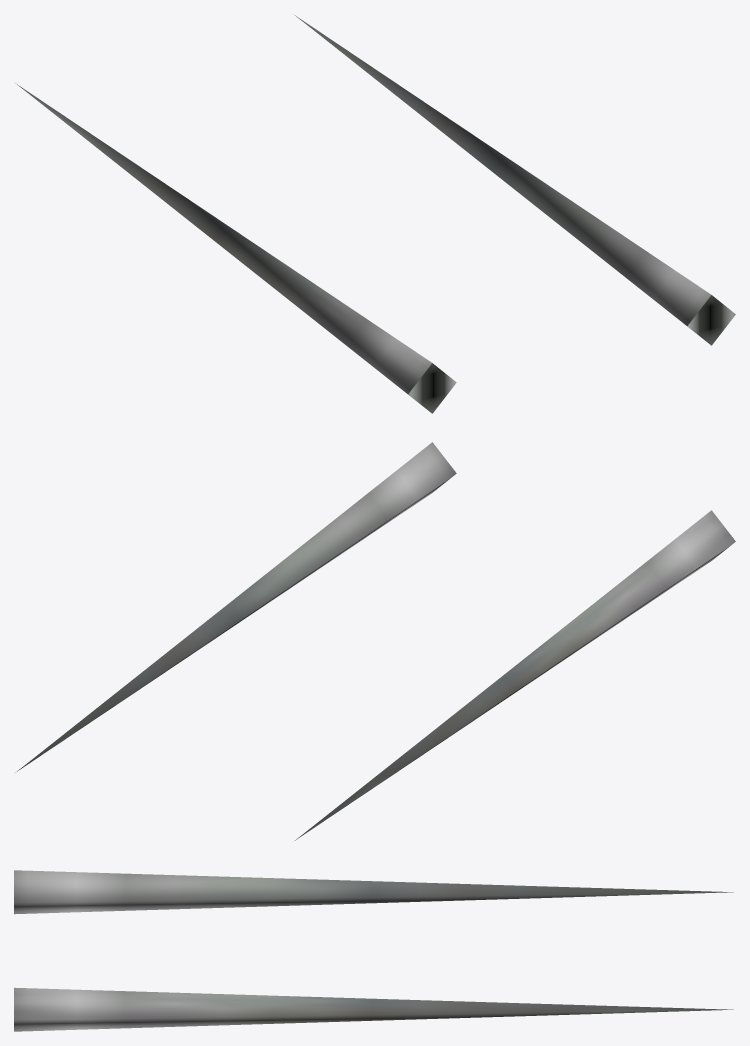
The model's file is ywing_weapon1_s01_l2.fbx.
3 renders of one model, top to bottom at view 1: azimuth 30°, elevation 25°; view 2: azimuth 150°, elevation 25°; view 3: azimuth 270°, elevation 25°, orthographic. The views are drawn at different scales.
Visible parts, largest first — view 1: mesh_node; view 2: mesh_node; view 3: mesh_node.
Part boxes in pixels (x1,y1,x2,y2): mesh_node: (15, 15, 735, 413); mesh_node: (15, 442, 735, 840); mesh_node: (14, 870, 733, 1031).
Bounding box in the file's own units: 1.05 × 0.1559 × 2.32.
1 material, 1 textured.
